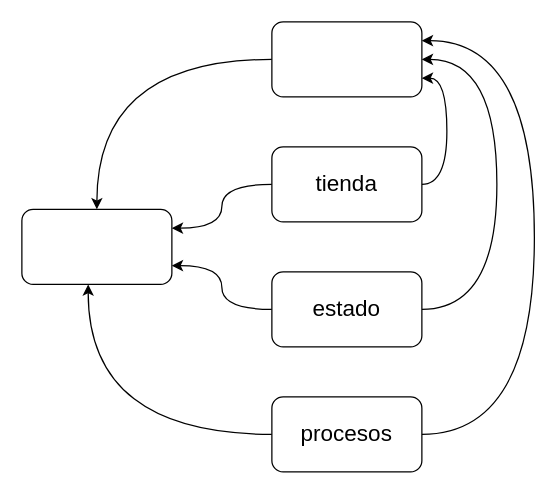
Image size: 556x494. Some labels were removed from this diagram. Each missing label, with the box of its shape:
main: (21, 208, 172, 284)
vistas: (271, 21, 422, 97)
